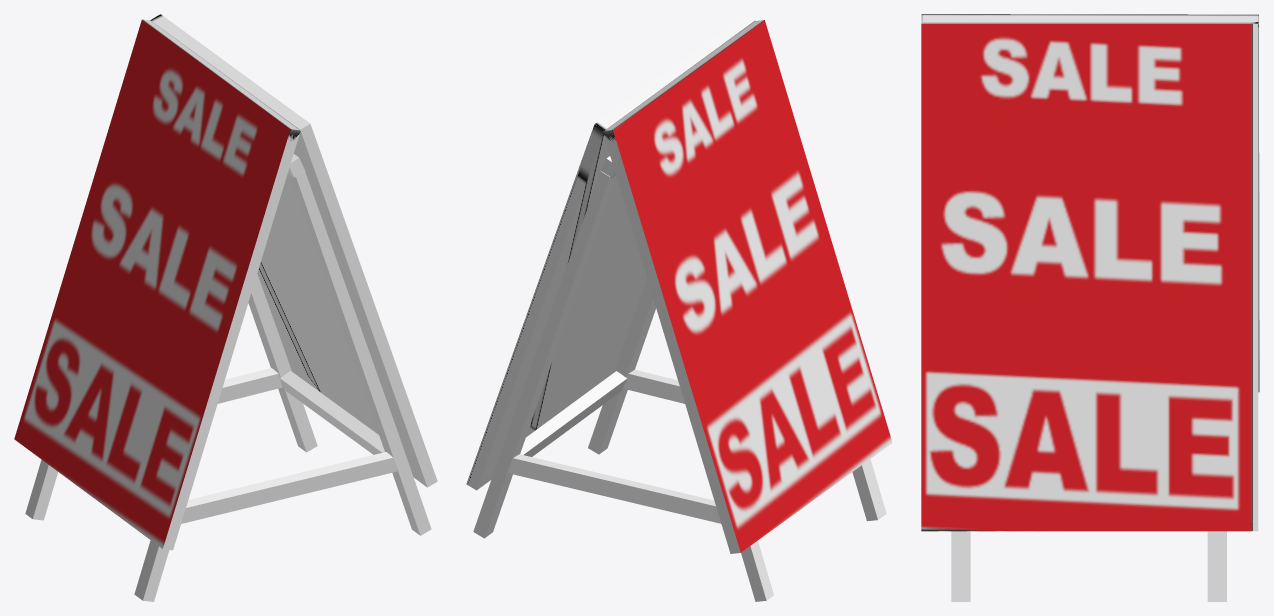
Rendered from midBanner1.fbx.
3 views of the same model, side by side, from view 1: azimuth 30°, elevation 25°; view 2: azimuth 150°, elevation 25°; view 3: azimuth 270°, elevation 25° (orthographic). The views are drawn at different scales.
Visible parts, largest first — view 1: Cube.014; view 2: Cube.014; view 3: Cube.014.
Part boxes in pixels (left/top/right/bottom): Cube.014: left=14, top=14, right=437, bottom=601; Cube.014: left=466, top=14, right=892, bottom=601; Cube.014: left=921, top=14, right=1259, bottom=601.
Size of the model in its own units: 147 by 220 by 133.
Materials: 1 (1 with a texture image).
